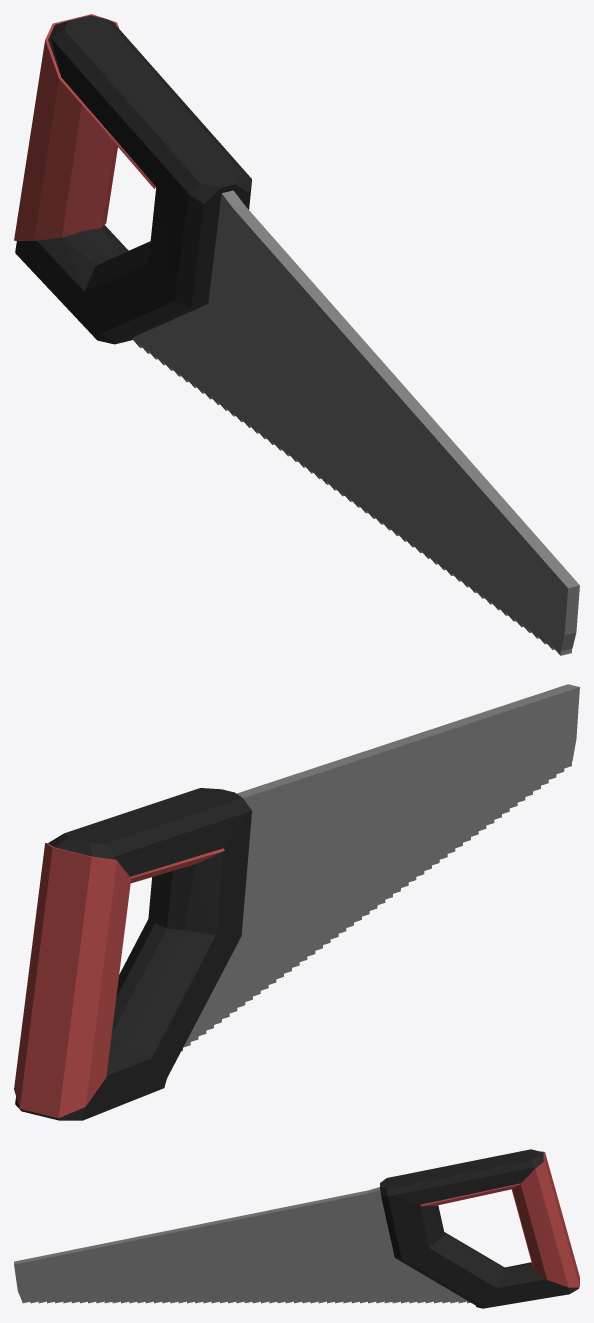
File: Saw.fbx
3 views of the same model, one above another, from view 1: azimuth 30°, elevation 25°; view 2: azimuth 150°, elevation 25°; view 3: azimuth 270°, elevation 25° (orthographic). The views are drawn at different scales.
Parts seen in each view (by area): view 1: Cube; view 2: Cube; view 3: Cube.
Part boxes in pixels (bbox=[...]): Cube: bbox=[14, 14, 579, 655]; Cube: bbox=[14, 684, 579, 1120]; Cube: bbox=[14, 1149, 579, 1308].
Bounding box in the file's own units: 10.99 × 40.73 × 141.
